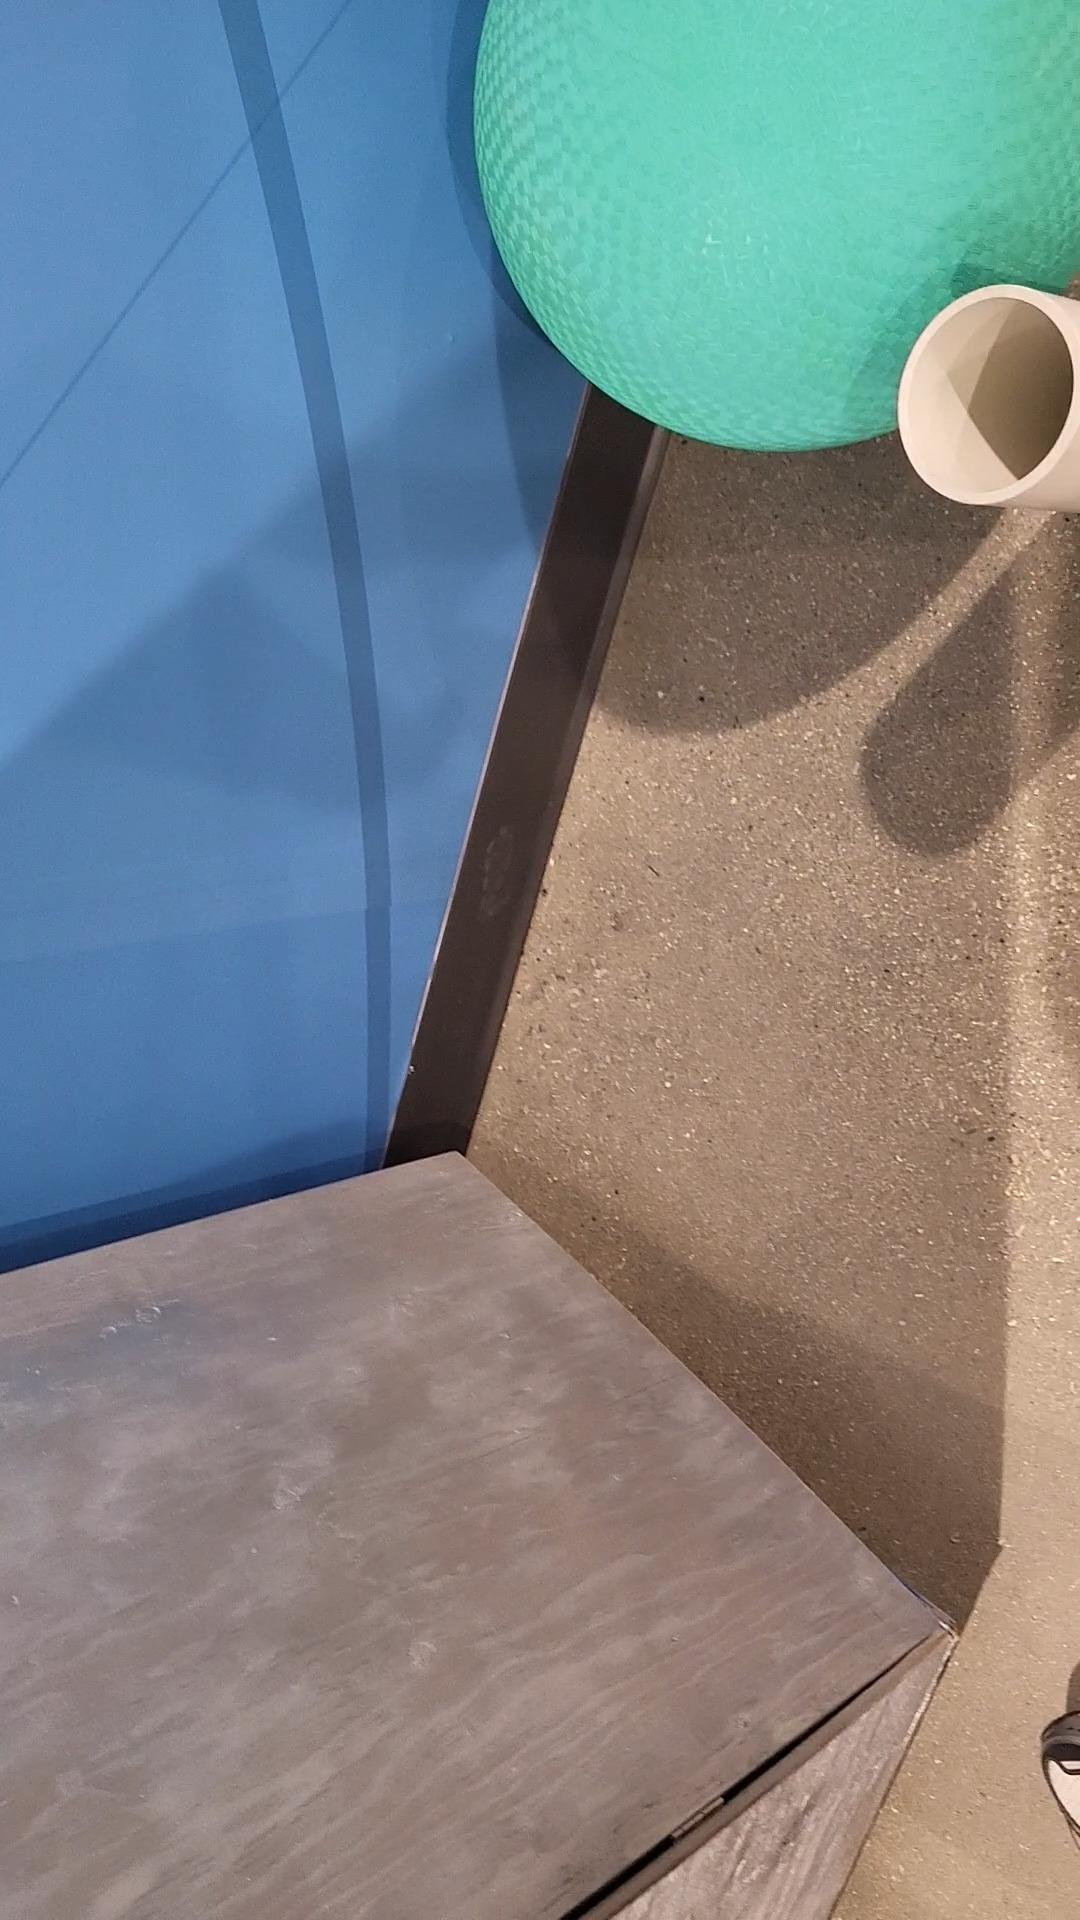algae: (473, 0, 1080, 452)
coral: (899, 283, 1080, 514)
